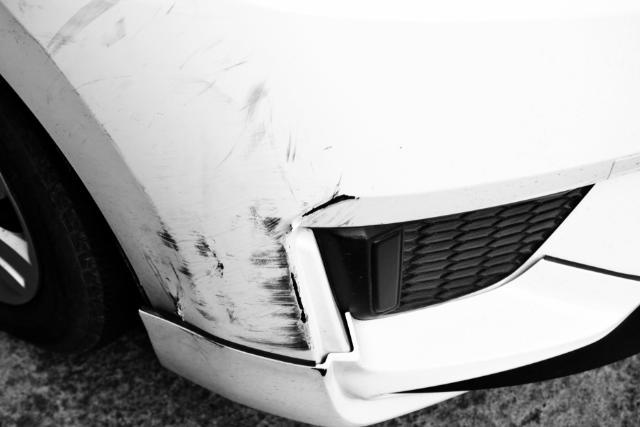Bumper: (73, 36, 387, 427)
